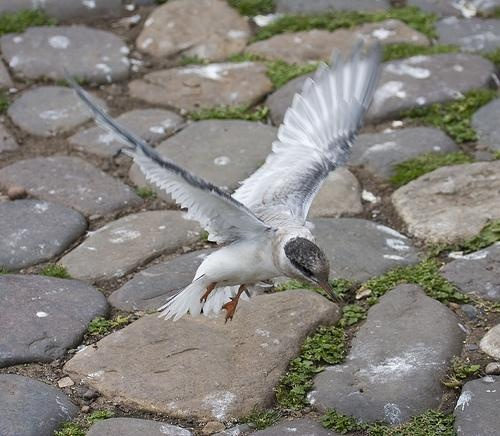bird: (57, 39, 369, 321)
